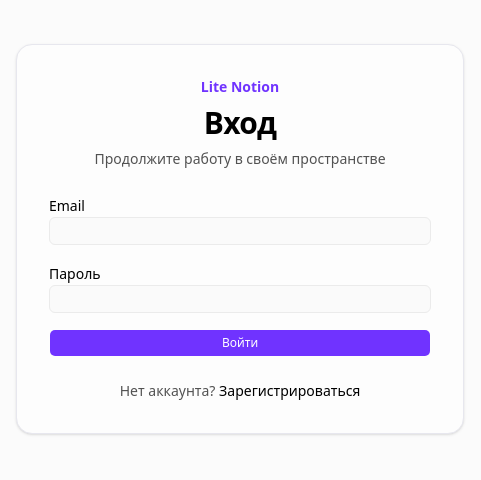
Test: LoginForm › не отправляет невалидную форму
Click the button "Войти": (240, 343) x1=49 y1=329 x2=431 y2=357
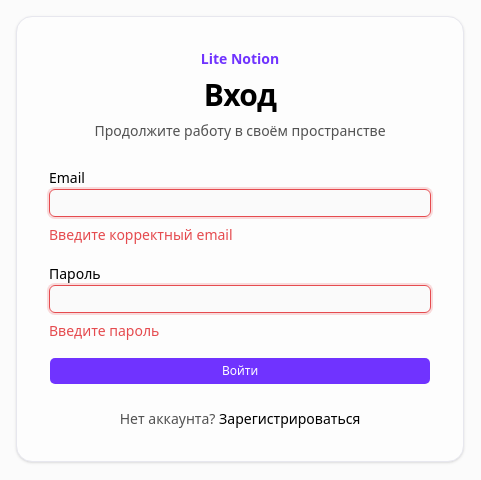
Check: the text "Введите корректный email" is shown, box x1=49 y1=225 x2=233 y2=244
